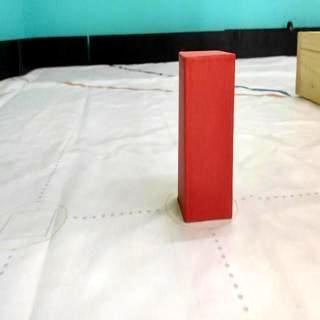redbox: (176, 50, 236, 222)
